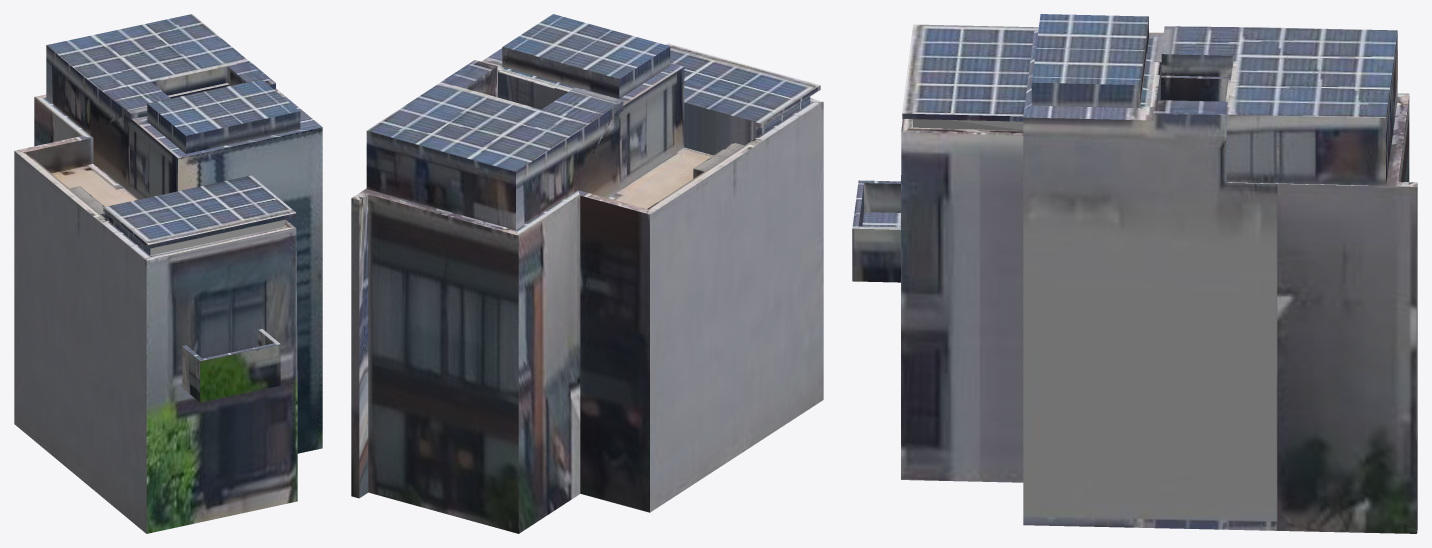
3 renders of one model, left to right at view 1: azimuth 30°, elevation 25°; view 2: azimuth 150°, elevation 25°; view 3: azimuth 270°, elevation 25°, orthographic. The views are drawn at different scales.
Parts seen in each view (by area): view 1: B284944030901062A0; view 2: B284944030901062A0; view 3: B284944030901062A0.
Boxes of the visible parts, <box> form: B284944030901062A0: <box>14,14,322,533</box>; B284944030901062A0: <box>351,14,823,533</box>; B284944030901062A0: <box>852,14,1417,533</box>.
Bounding box in the file's own units: 9.03 × 12.51 × 14.88.
1 material, 1 textured.
